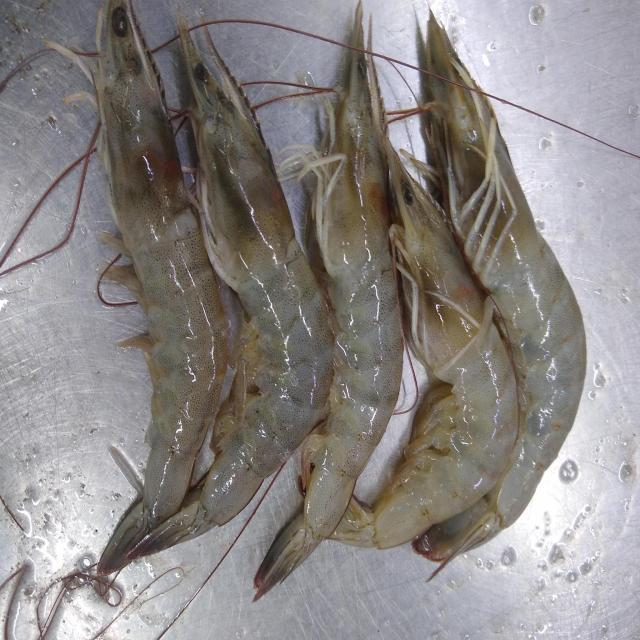shrimp: (134, 17, 334, 555), (45, 0, 228, 573), (414, 13, 586, 572), (254, 3, 404, 600), (332, 142, 519, 548)
